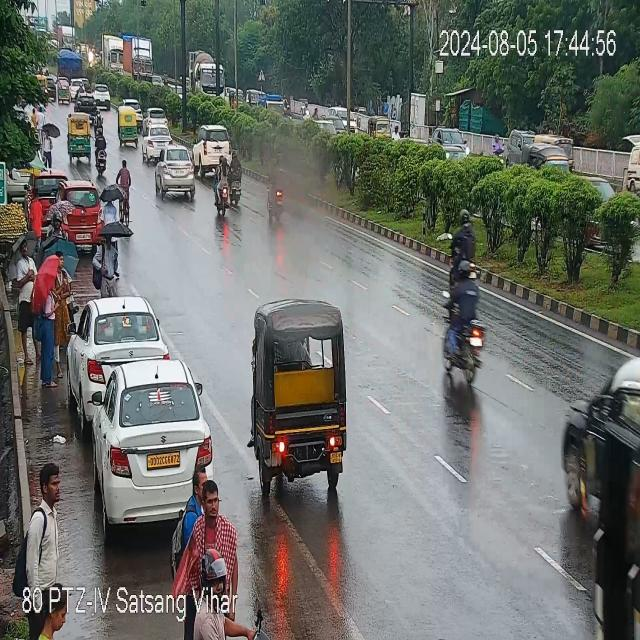2-wheelers: (440, 266, 490, 386), (448, 221, 491, 278), (260, 158, 289, 234), (213, 154, 247, 213), (94, 123, 113, 173), (116, 159, 130, 217), (490, 134, 512, 169)
auto: (248, 302, 350, 489), (525, 142, 574, 178), (68, 114, 95, 160), (118, 109, 143, 145)
car: (75, 357, 220, 526), (568, 348, 636, 640), (70, 302, 118, 416), (62, 178, 101, 248), (154, 144, 194, 202), (197, 125, 238, 171), (142, 133, 176, 161), (143, 107, 173, 129), (89, 85, 115, 108), (119, 99, 143, 112)
pedestrian: (170, 466, 237, 611), (27, 456, 69, 585), (31, 244, 63, 379), (13, 241, 39, 360), (30, 104, 57, 168)
truck: (101, 31, 154, 82), (190, 46, 228, 102)
